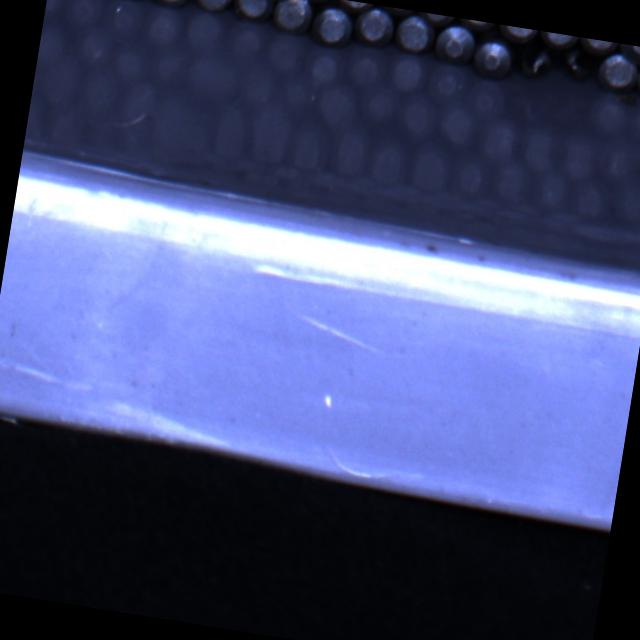tool: (310, 3, 356, 48), (352, 3, 397, 48), (472, 36, 516, 82), (434, 21, 478, 66), (393, 11, 438, 54), (595, 52, 640, 94), (271, 0, 316, 34), (231, 0, 276, 23), (496, 24, 540, 44), (536, 30, 579, 50), (578, 37, 620, 57), (456, 18, 500, 34), (416, 12, 457, 28), (615, 44, 640, 66), (190, 0, 235, 12), (332, 0, 376, 12)
tool_b: (514, 43, 556, 82), (560, 50, 598, 84)
